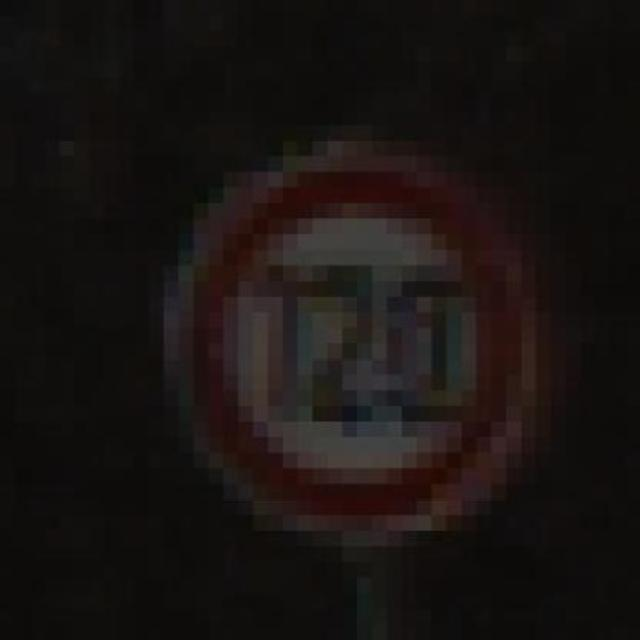forb_speed_over_120: (188, 162, 522, 527)
